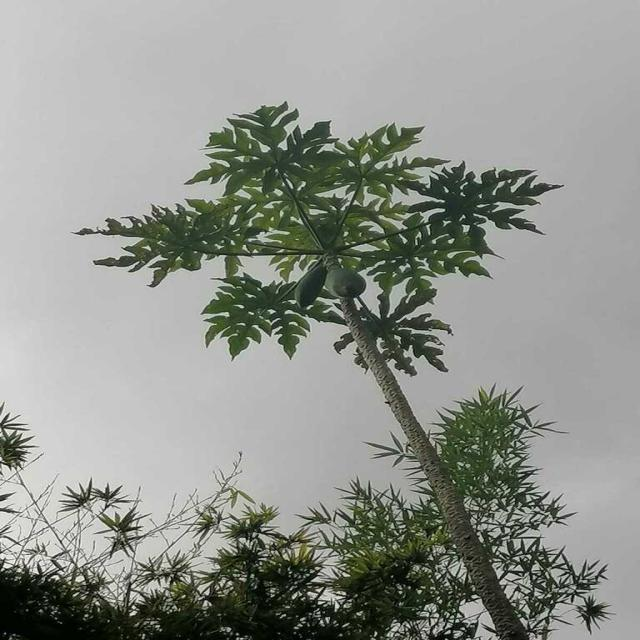Papaya-Tree: (71, 82, 640, 622)
